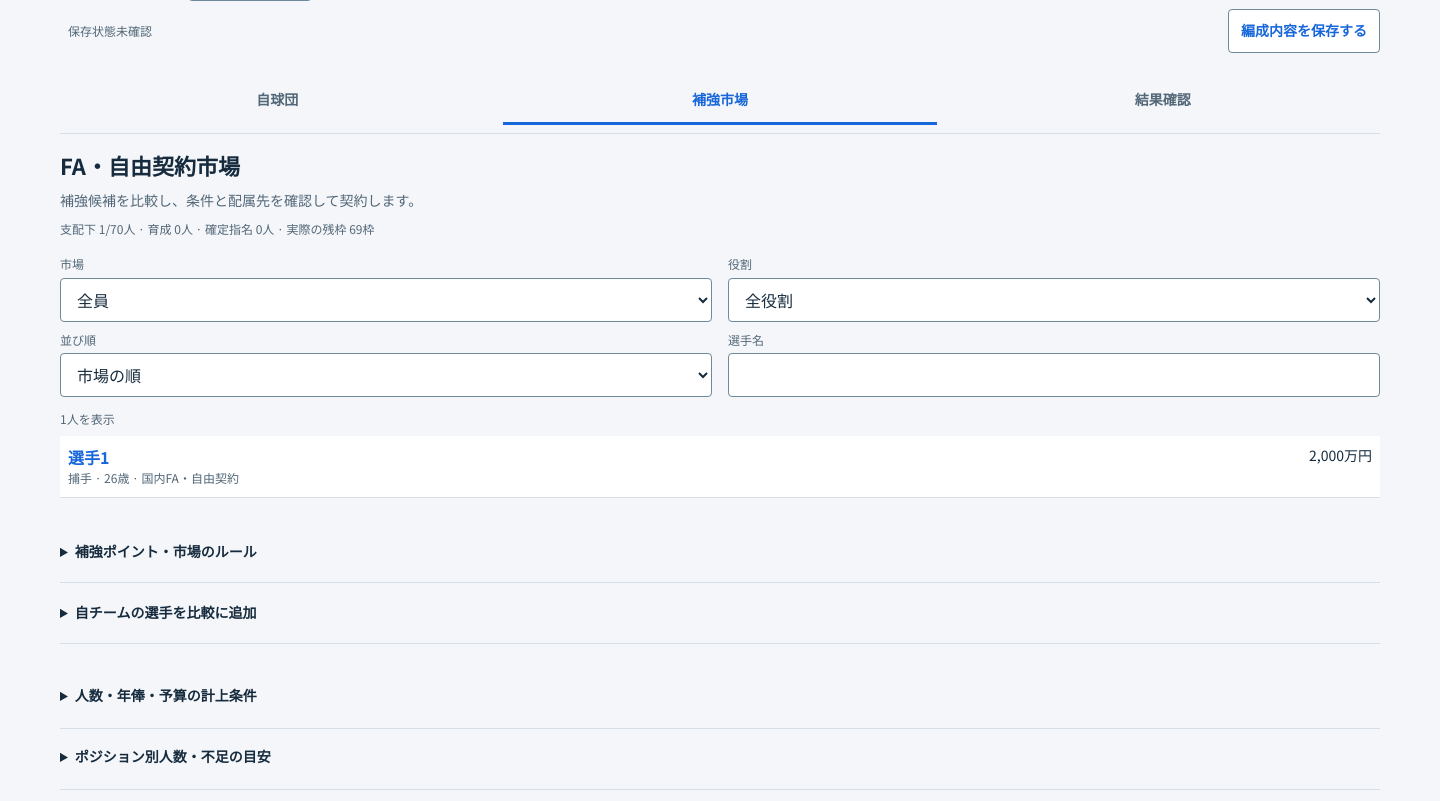
Test: blocks market signing on insufficient budget
The width and height of the screenshot is (1440, 801).
(page scrolled)
Click the button "選手1 2,000万円 捕手 · 26歳 · 国内FA・自由契約" at (89, 457), box top-left (60, 436), bottom-right (1380, 498)
(page scrolled)
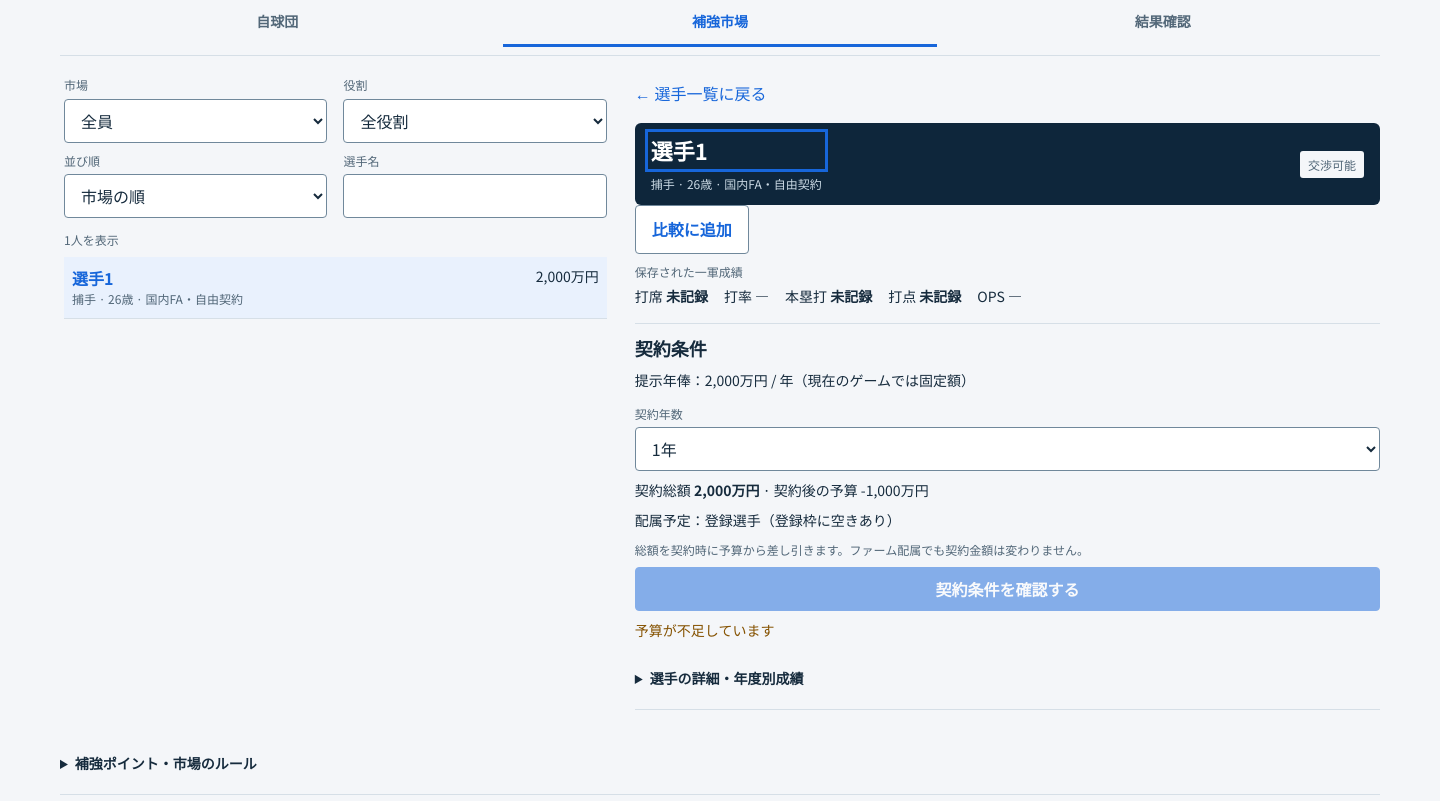
expect the button "契約条件を確認する" is disabled: met, box top-left (635, 567), bottom-right (1380, 611)
